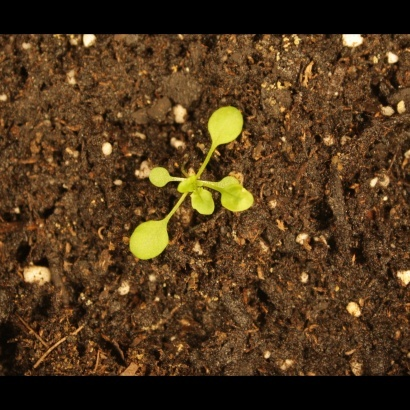leaf: (199, 103, 255, 145), (126, 218, 172, 261), (221, 186, 257, 218), (145, 161, 174, 191), (189, 190, 216, 220), (174, 172, 205, 195), (217, 173, 245, 196)
